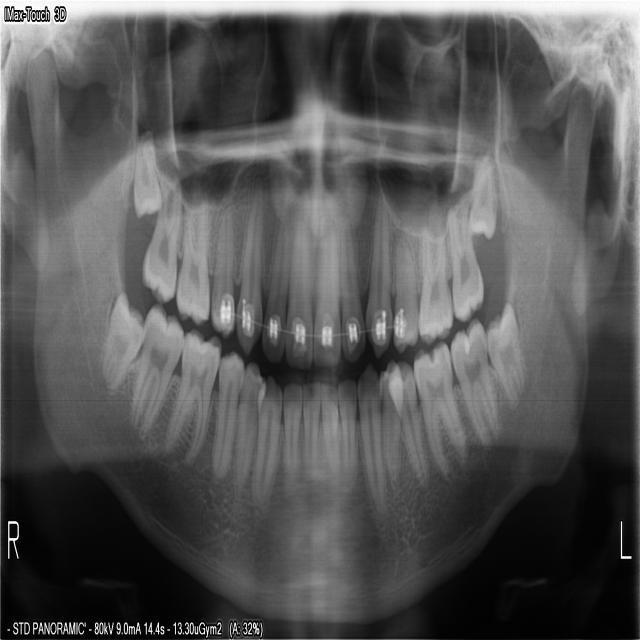LCU: (364, 178, 392, 362)
LID: (357, 359, 385, 514), (319, 378, 340, 488), (338, 374, 357, 491)
LIU: (312, 209, 340, 368), (340, 208, 366, 364)
LMD: (412, 342, 467, 483), (448, 317, 500, 451), (484, 296, 527, 415)
LMU: (444, 201, 485, 326), (418, 211, 452, 348), (468, 149, 497, 243)
LPMD: (382, 356, 428, 490)
LPMU: (392, 207, 418, 357)
RCD: (252, 373, 281, 512)
RCU: (233, 172, 263, 359), (258, 200, 288, 365)
RID: (280, 379, 299, 499), (300, 380, 319, 485)
RIU: (283, 211, 312, 372)
RMD: (161, 326, 220, 469), (128, 303, 180, 440), (98, 289, 143, 396)
RMU: (139, 162, 180, 306), (173, 183, 208, 327), (129, 125, 159, 221)
RPMD: (230, 358, 263, 502), (210, 346, 243, 481)
RPMU: (208, 200, 234, 339)
